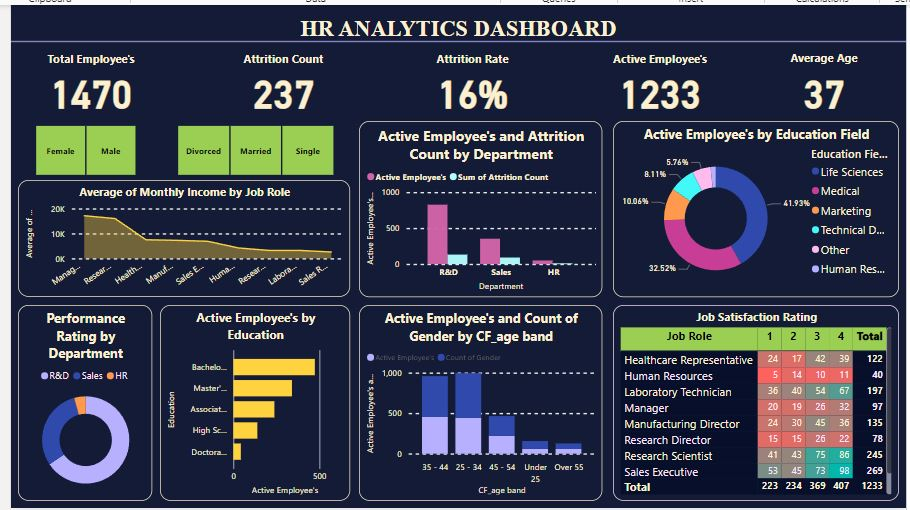

What the dashboard file says about the page in this screenshot:
{"tool":"powerbi","page":{"name":"Page 1","canvas":[1280,720],"ordinal":0},"visuals":[{"type":"card","title":"Total Employee''s","fields":{"Values":["Sum(HR data.Employee Count)"]},"box":[5.7,65.9,217.4,90.1],"z":0,"group":"g1"},{"type":"card","title":"Attrition Count","fields":{"Values":["Sum(HR data.Attrition Count)"]},"box":[293.6,65.3,193.1,90.1],"z":1,"group":"g1"},{"type":"card","title":"Attrition Rate","fields":{"Values":["HR data.Attrition_rate"]},"box":[549.1,65.9,221.7,90.1],"z":2,"group":"g1"},{"type":"card","title":"Active Employee''s","fields":{"Values":["HR data.Active Employee's"]},"box":[818,65.9,220.3,90.1],"z":3,"group":"g1"},{"type":"card","title":"Average Age","fields":{"Values":["Avg(HR data.Age)"]},"box":[1062.6,64.4,200.2,91.5],"z":4,"group":"g1"},{"type":"clusteredColumnChart","title":"Active Employee''s and Attrition Count by Department","fields":{"Y":["HR data.Active Employee's","Sum(HR data.Attrition Count)"],"Category":["HR data.Department"]},"box":[497.7,165.9,347.5,251.7],"z":5},{"type":"donutChart","title":"Active Employee''s by Education Field","fields":{"Category":["HR data.Education Field"],"Y":["HR data.Active Employee's"]},"box":[861,165.9,409,251.7],"z":6},{"type":"columnChart","fields":{"Y":["HR data.Active Employee's","CountNonNull(HR data.Gender)"],"Category":["HR data.CF_age band"]},"box":[497.7,429.1,347.5,280.3],"z":7},{"type":"pivotTable","title":"Job Satisfaction Rating","fields":{"Rows":["HR data.Job Role"],"Columns":["HR data.Job Satisfaction"],"Values":["HR data.Active Employee's"]},"box":[861,429.1,409,280.3],"z":8},{"type":"donutChart","title":"Performance Rating by Department","fields":{"Y":["Sum(HR data.Performance Rating)"],"Category":["HR data.Department"]},"box":[10,429.1,191.6,280.3],"z":9},{"type":"clusteredBarChart","fields":{"Category":["HR data.Education"],"Y":["HR data.Active Employee's"]},"box":[213.1,429.1,271.7,280.3],"z":10},{"type":"areaChart","fields":{"Category":["HR data.Job Role"],"Y":["Avg(HR data.Monthly Income)"]},"box":[10,250.3,474.8,167.3],"z":11},{"type":"slicer","fields":{"Values":["HR data.Gender"]},"box":[10,165.9,191.6,84.4],"z":12},{"type":"slicer","fields":{"Values":["HR data.Marital Status"]},"box":[213.1,165.9,271.7,84.4],"z":13},{"type":"group","id":"g1","title":"Group 1","box":[5.7,64.4,1257.1,91.5],"z":14},{"type":"textbox","box":[0,10,1280,55.8],"z":15},{"type":"shape","box":[0,38.6,1280,27.2],"z":16}]}

Visuals, with their boxes on the page's 1280x720 design canvas (x1, y1, x2, y2). These are canvas units, not pixel positions in the 910x510 screenshot, which may show the page scaled, cropped or inside an application window:
"Total Employee''s" card: 6, 66, 223, 156
"Attrition Count" card: 294, 65, 487, 155
"Attrition Rate" card: 549, 66, 771, 156
"Active Employee''s" card: 818, 66, 1038, 156
"Average Age" card: 1063, 64, 1263, 156
"Active Employee''s and Attrition Count by Department" clusteredColumnChart: 498, 166, 845, 418
"Active Employee''s by Education Field" donutChart: 861, 166, 1270, 418
columnChart - HR data.Active Employee's x CountNonNull(HR data.Gender): 498, 429, 845, 709
"Job Satisfaction Rating" pivotTable: 861, 429, 1270, 709
"Performance Rating by Department" donutChart: 10, 429, 202, 709
clusteredBarChart - HR data.Education x HR data.Active Employee's: 213, 429, 485, 709
areaChart - HR data.Job Role x Avg(HR data.Monthly Income): 10, 250, 485, 418
slicer - HR data.Gender: 10, 166, 202, 250
slicer - HR data.Marital Status: 213, 166, 485, 250
"Group 1" group: 6, 64, 1263, 156
textbox: 0, 10, 1280, 66
shape: 0, 39, 1280, 66
